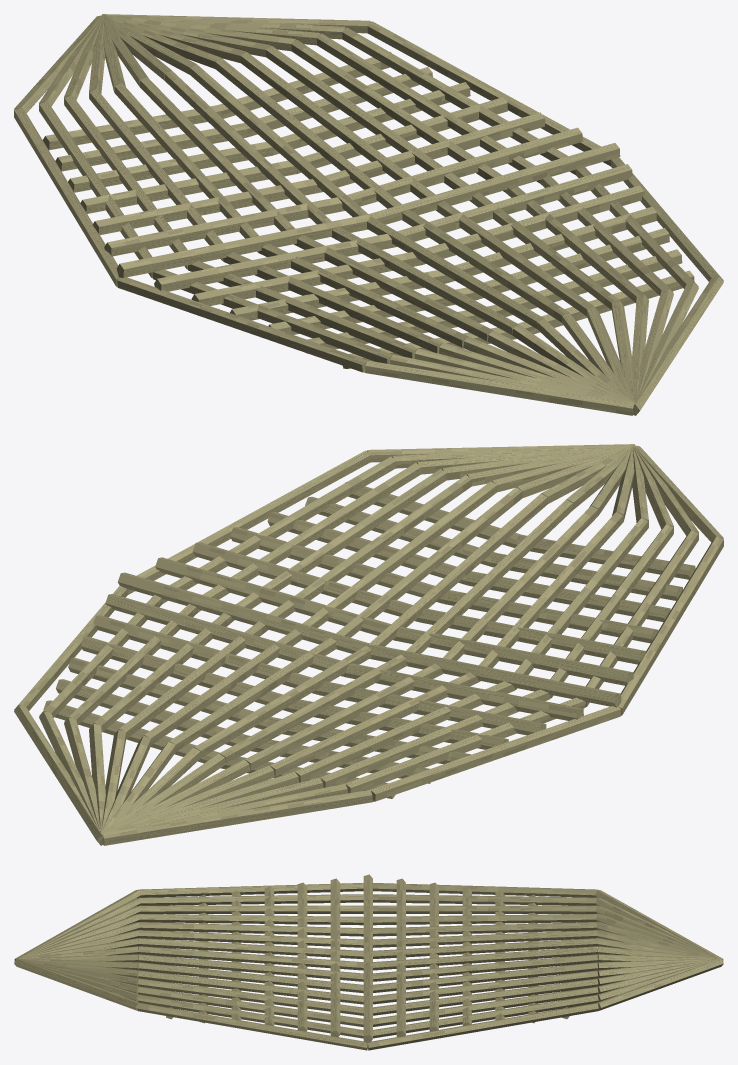
The model's file is hammock_net.glb.
3 views of the same model, one above another, from view 1: azimuth 30°, elevation 25°; view 2: azimuth 150°, elevation 25°; view 3: azimuth 270°, elevation 25° (orthographic). The views are drawn at different scales.
Visible parts, largest first — view 1: block_lengthwise net cord 1 (×15), block_lengthwise net cord 2 (×15), block_crosswise net cord 1 (×13), block_crosswise net cord 0 (×12), block_lengthwise net cord 3 (×15), block_lengthwise net cord 0 (×15); view 2: block_lengthwise net cord 2 (×15), block_lengthwise net cord 1 (×15), block_crosswise net cord 1 (×13), block_crosswise net cord 0 (×12), block_lengthwise net cord 0 (×15), block_lengthwise net cord 3 (×15); view 3: block_lengthwise net cord 1 (×15), block_lengthwise net cord 2 (×15), block_lengthwise net cord 0 (×15), block_lengthwise net cord 3 (×15), block_crosswise net cord 0 (×7), block_crosswise net cord 1 (×7).
Boxes of the visible parts, x1=… form: block_lengthwise net cord 1 (×15): x1=14, y1=21, x2=610, y2=286; block_lengthwise net cord 2 (×15): x1=117, y1=157, x2=723, y2=372; block_crosswise net cord 1 (×13): x1=218, y1=51, x2=694, y2=334; block_crosswise net cord 0 (×12): x1=43, y1=105, x2=496, y2=353; block_lengthwise net cord 3 (×15): x1=365, y1=276, x2=723, y2=415; block_lengthwise net cord 0 (×15): x1=14, y1=14, x2=370, y2=112; block_lengthwise net cord 2 (×15): x1=127, y1=450, x2=723, y2=715; block_lengthwise net cord 1 (×15): x1=14, y1=586, x2=621, y2=801; block_crosswise net cord 1 (×13): x1=43, y1=482, x2=521, y2=763; block_crosswise net cord 0 (×12): x1=242, y1=535, x2=695, y2=783; block_lengthwise net cord 0 (×15): x1=14, y1=705, x2=372, y2=845; block_lengthwise net cord 3 (×15): x1=367, y1=444, x2=723, y2=542; block_lengthwise net cord 1 (×15): x1=368, y1=883, x2=598, y2=1050; block_lengthwise net cord 2 (×15): x1=137, y1=883, x2=367, y2=1050; block_lengthwise net cord 0 (×15): x1=595, y1=890, x2=723, y2=1010; block_lengthwise net cord 3 (×15): x1=14, y1=890, x2=140, y2=1010; block_crosswise net cord 0 (×7): x1=264, y1=874, x2=471, y2=965; block_crosswise net cord 1 (×7): x1=264, y1=962, x2=471, y2=1042.
Bounding box in the file's own units: 0.1927 × 0.0136 × 0.3549.
Materials: 1 (1 with a texture image).
